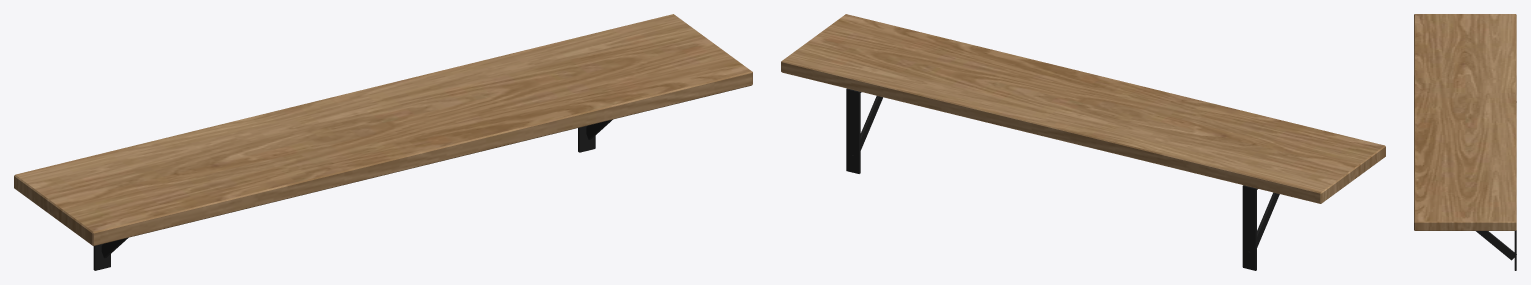
The model's file is estante_escuadras_120.glb.
3 renders of one model, left to right at view 1: azimuth 30°, elevation 25°; view 2: azimuth 150°, elevation 25°; view 3: azimuth 270°, elevation 25°, orthographic. The views are drawn at different scales.
Visible parts, largest first — view 1: estante_escuadras_120; view 2: estante_escuadras_120; view 3: estante_escuadras_120.
Boxes of the visible parts, x1,y1,x2,y2 form: estante_escuadras_120: (14, 14, 752, 270); estante_escuadras_120: (781, 14, 1385, 270); estante_escuadras_120: (1414, 14, 1516, 270).
Bounding box in the file's own units: 1.2 × 0.2 × 0.2506.
Materials: 2 (1 with a texture image).
